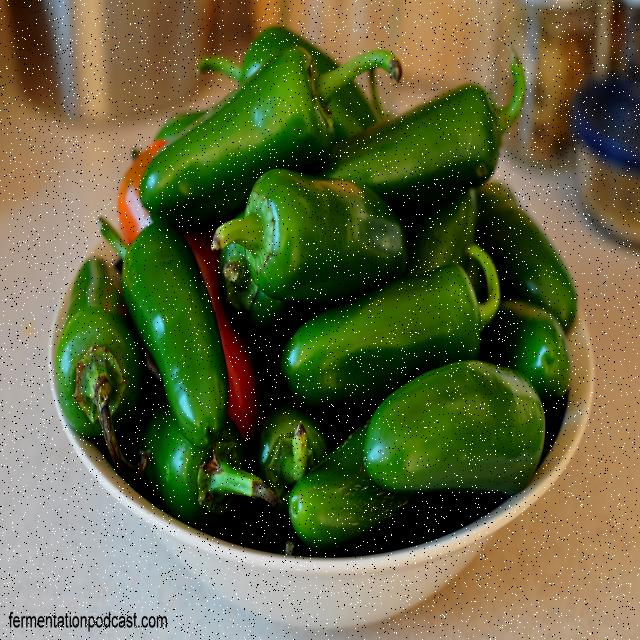Chili Pepper: (85, 211, 249, 473), (121, 42, 366, 182), (287, 278, 510, 429), (349, 69, 529, 240), (245, 156, 434, 309)
